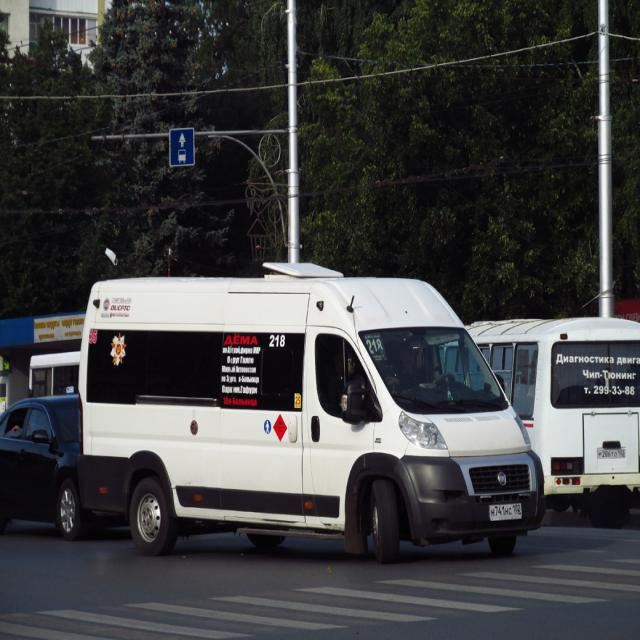number-of-bus: (269, 334, 289, 351)
